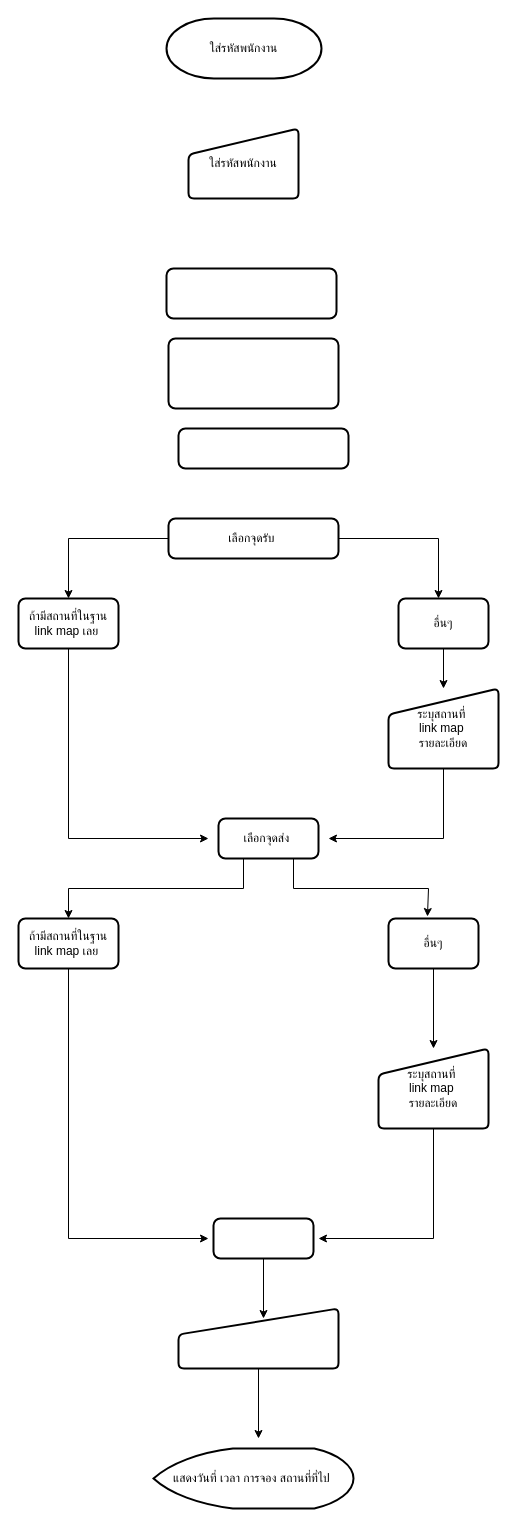
Image size: 516x1526. Some labels were removed from this diagram. Here are the shapes that lost their labels. From the top down, the centre of each, then its label:
(x=251, y=293): กดจองรถ
(x=253, y=373): กรอกวันที่ เวลาออก เวลาถึง เวลากลับ
(x=263, y=448): ประเภทงาน
(x=263, y=1238): เลือกวัตถุประสงค์
(x=258, y=1338): รายละเอียดวัตถุประงสงค์
